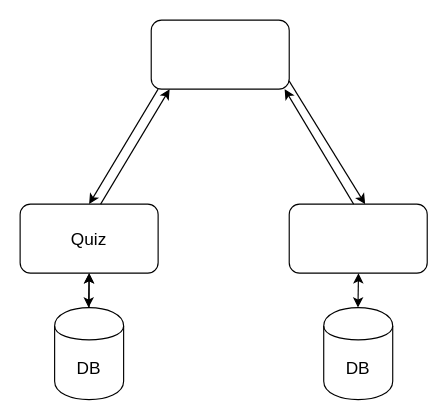
Some shapes in this 447 by 420 pixel diagram are drawn without their labels. The box of each missing label's shape, as (x1, y1, x2, y2) in pixels:
Frontend: (150, 19, 289, 89)
Users: (288, 203, 427, 273)
